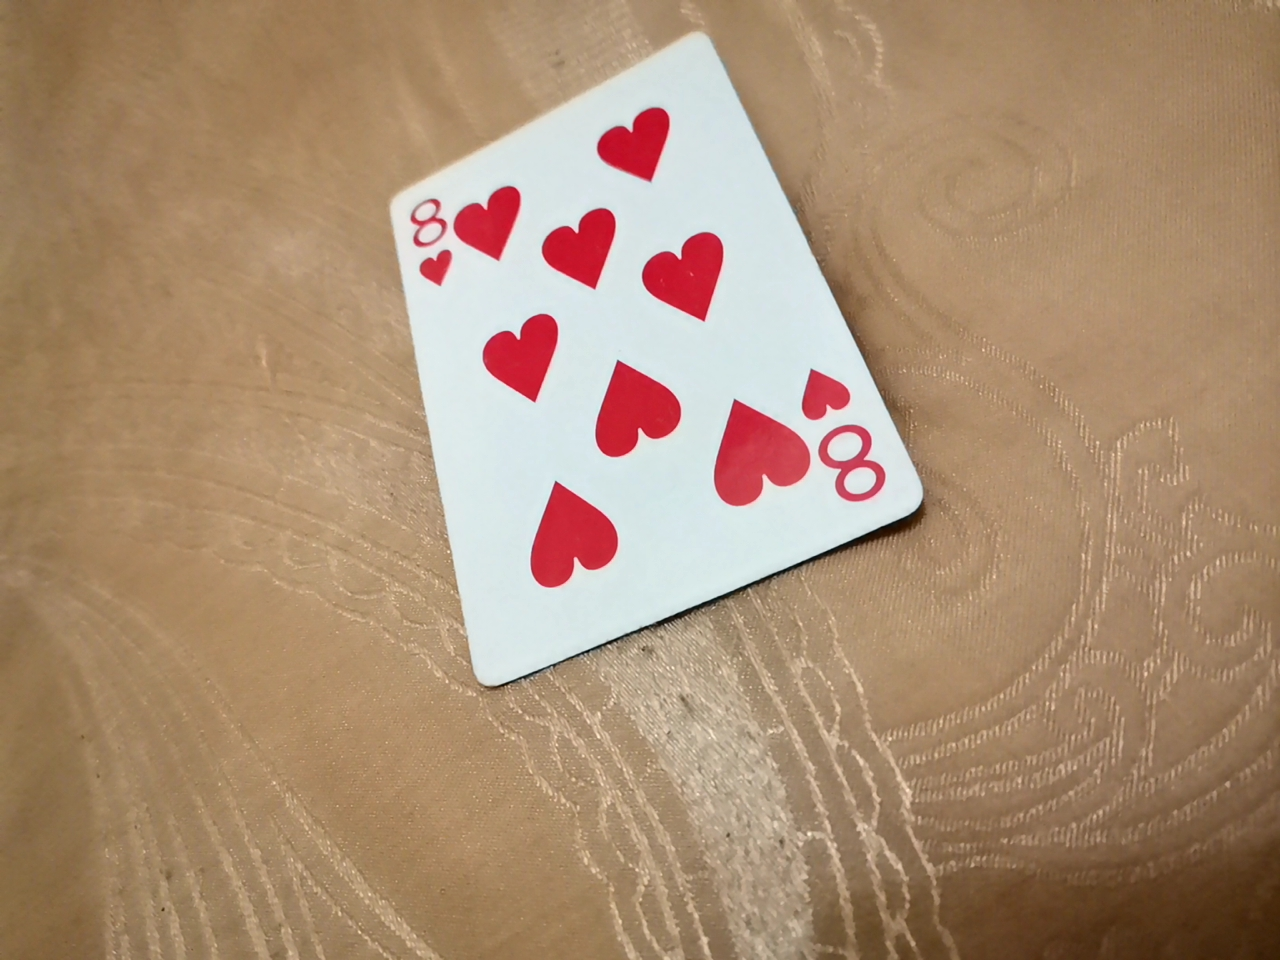hx 8: (364, 51, 901, 713)
